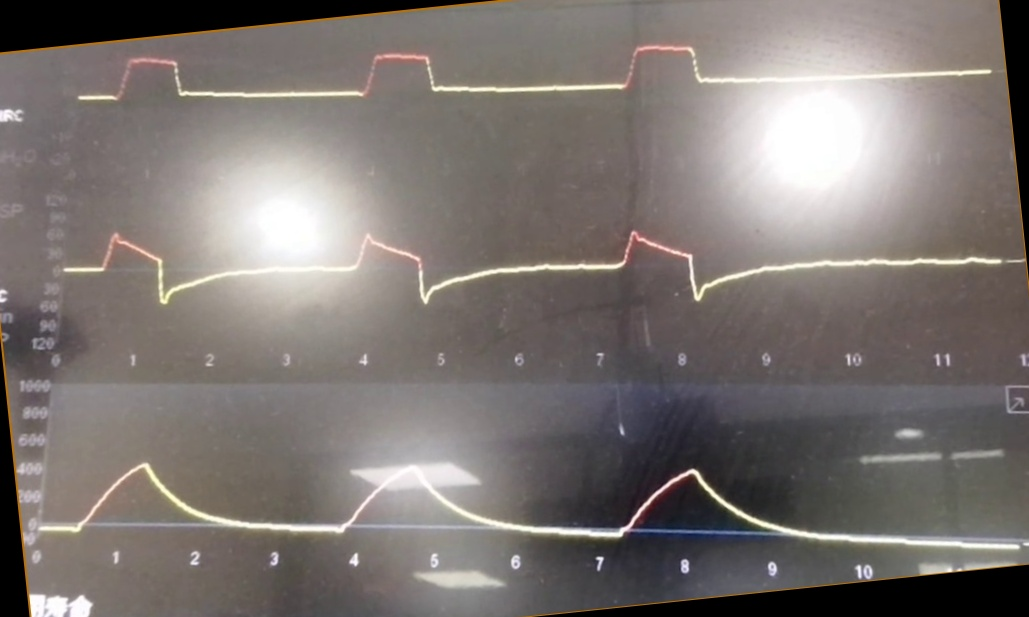Normal Flow: (69, 190, 1015, 333)
Normal Volume: (43, 432, 1015, 558)
